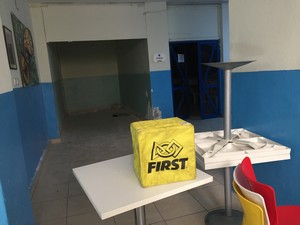cube: (130, 121, 199, 185)
